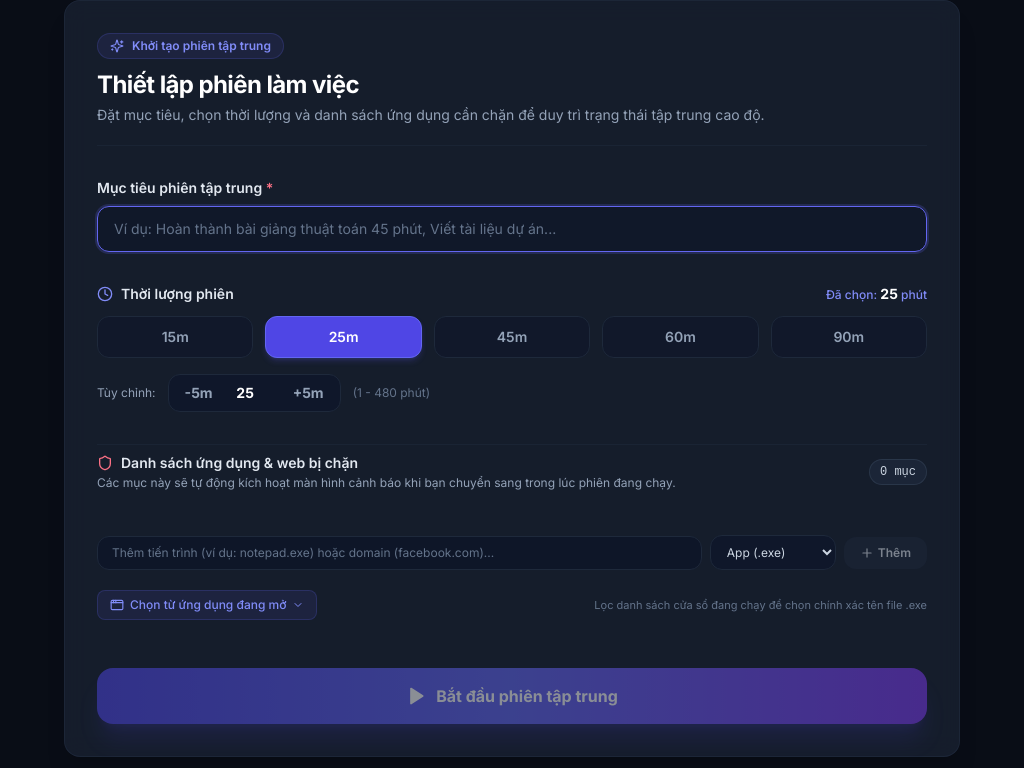
Test: SessionSetup Component › updates duration using stepper +/- buttons
Click the button titled "Tăng 5 phút".
click(308, 393)  # box left=281, top=379, right=336, bottom=407
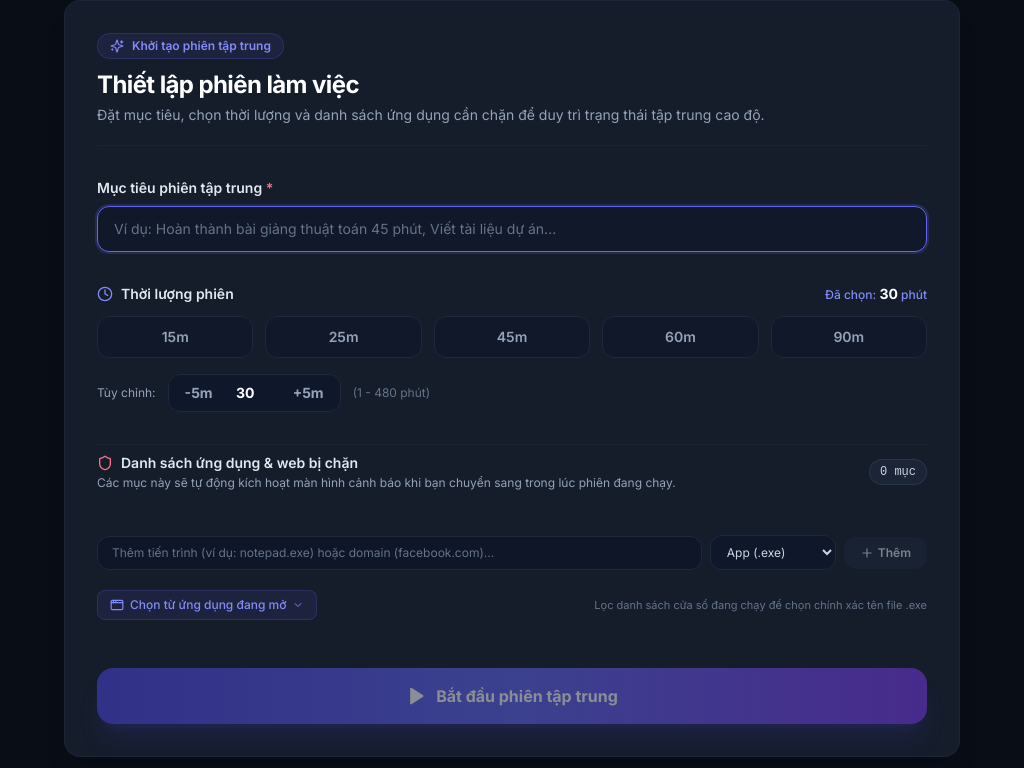
Expected: the text "Đã chọn: 30 phút" is shown, left=825, top=284, right=927, bottom=304
Click the button titled "Giảm 5 phút".
click(199, 393)  # box left=173, top=379, right=225, bottom=407
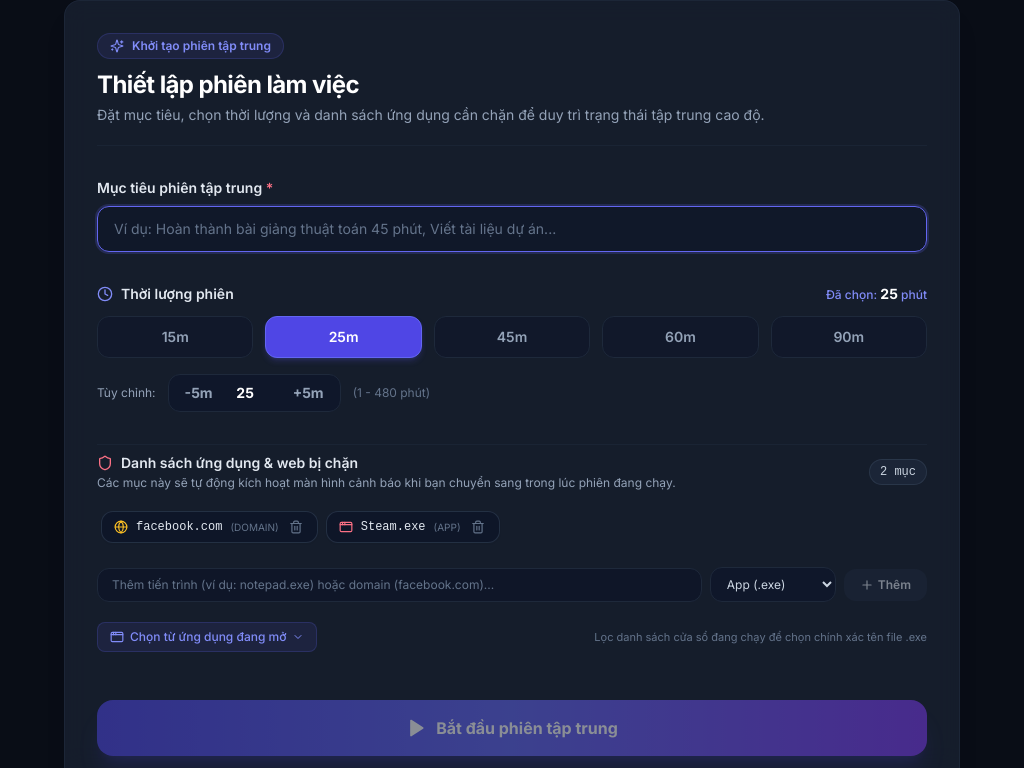
Expected: the text "Đã chọn: 25 phút" is shown, left=826, top=284, right=927, bottom=304
